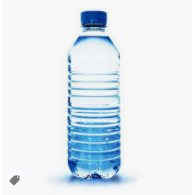Bottle: (68, 10, 119, 177)
